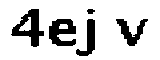4: (9, 6, 45, 50)
e: (49, 17, 83, 52)
j: (77, 5, 101, 60)
v: (112, 14, 151, 51)
